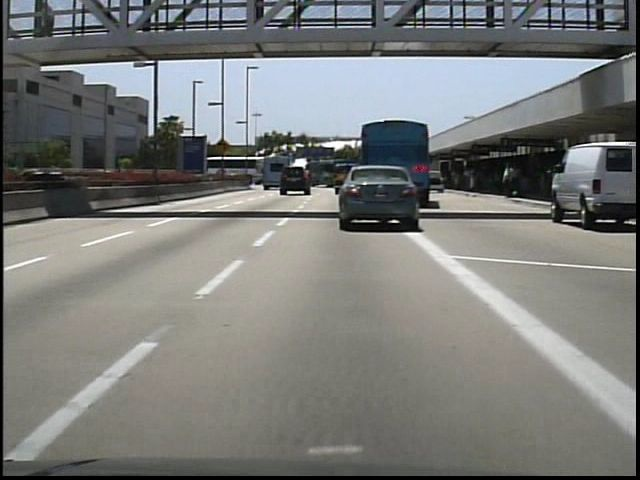person: (40, 0, 62, 49), (503, 160, 520, 200)
